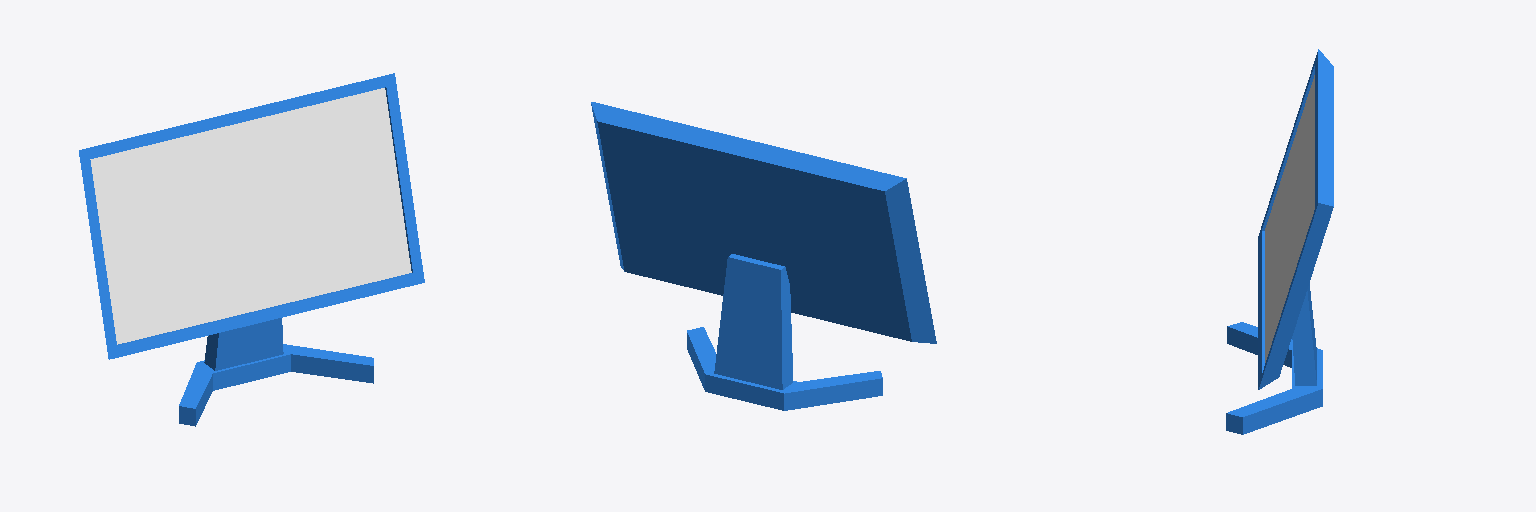
The model's file is h-heneizhuji.obj.
3 renders of one model, left to right at view 1: azimuth 30°, elevation 25°; view 2: azimuth 150°, elevation 25°; view 3: azimuth 270°, elevation 25°, orthographic.
Visible parts, largest first — view 1: heinenizhuji; view 2: heinenizhuji; view 3: heinenizhuji.
Part boxes in pixels (bbox=[...]): heinenizhuji: bbox=[79, 73, 424, 426]; heinenizhuji: bbox=[591, 102, 936, 410]; heinenizhuji: bbox=[1226, 49, 1333, 434].
Bounding box in the file's own units: 69.95 × 55.03 × 20.66.